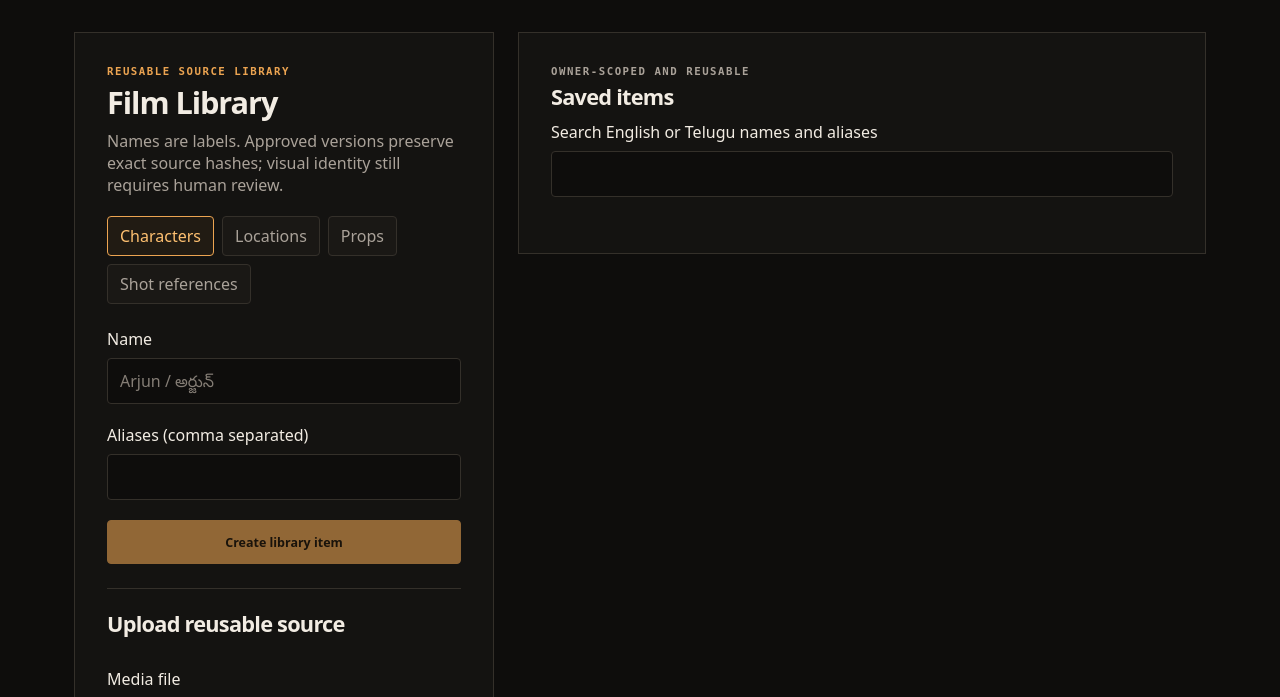
Test: FilmLibraryView › creates a Unicode-named reusable character with explicit aliases
This screenshot has width=1280, height=697.
Type "Arjun" into the field labelled "Name" at x=284, y=381, box [107,358,461,404]
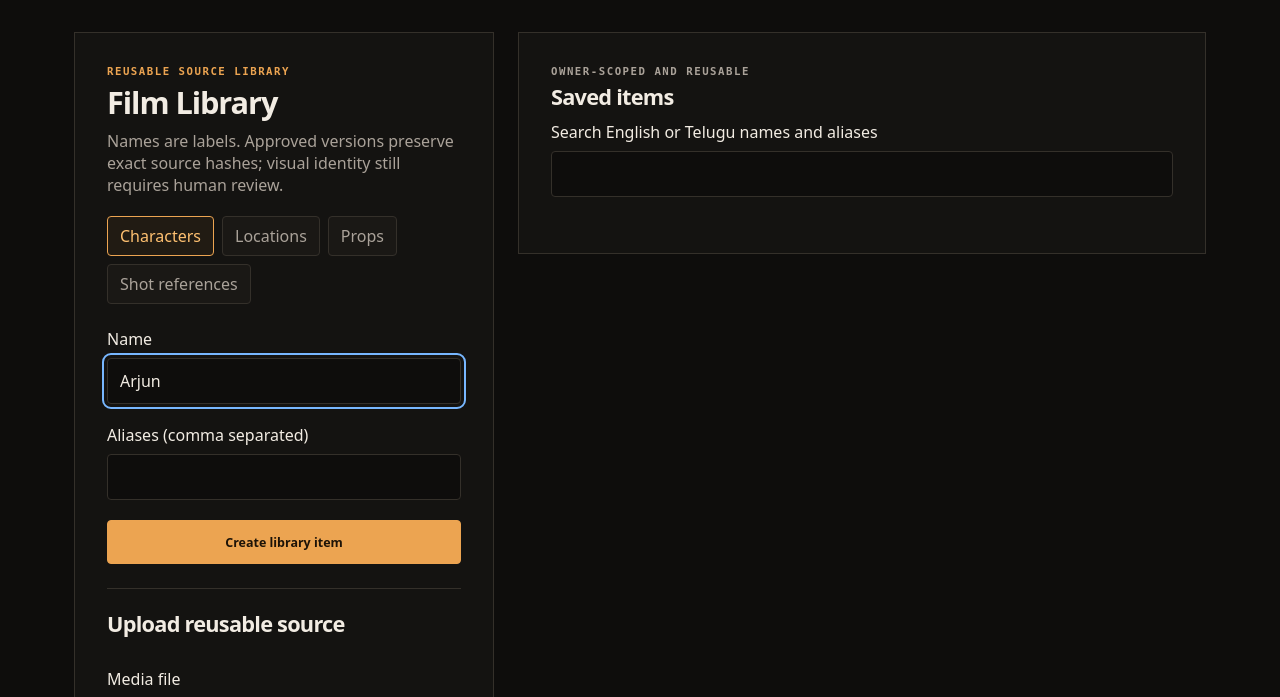
Type "అర్జున్, Arjun Rao" into the field labelled "Aliases (comma separated)" at x=284, y=477, box [107,454,461,500]
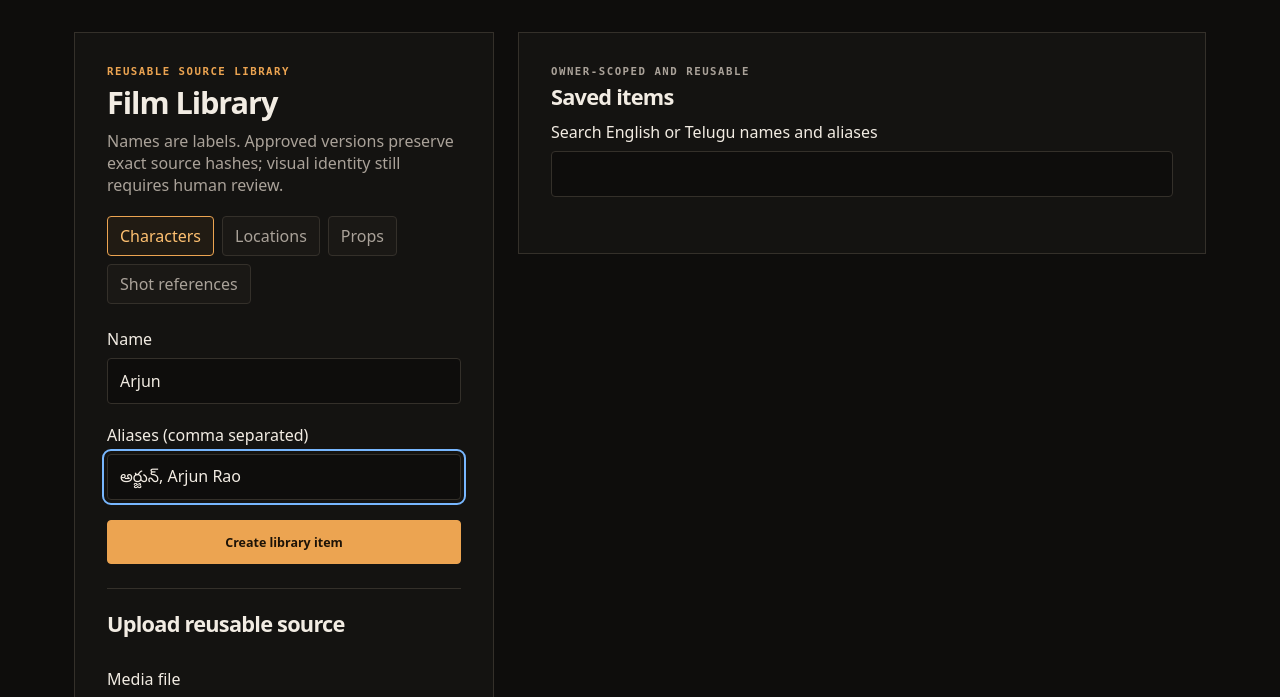
Click the button "Create library item" at x=284, y=542, box [107,520,461,564]
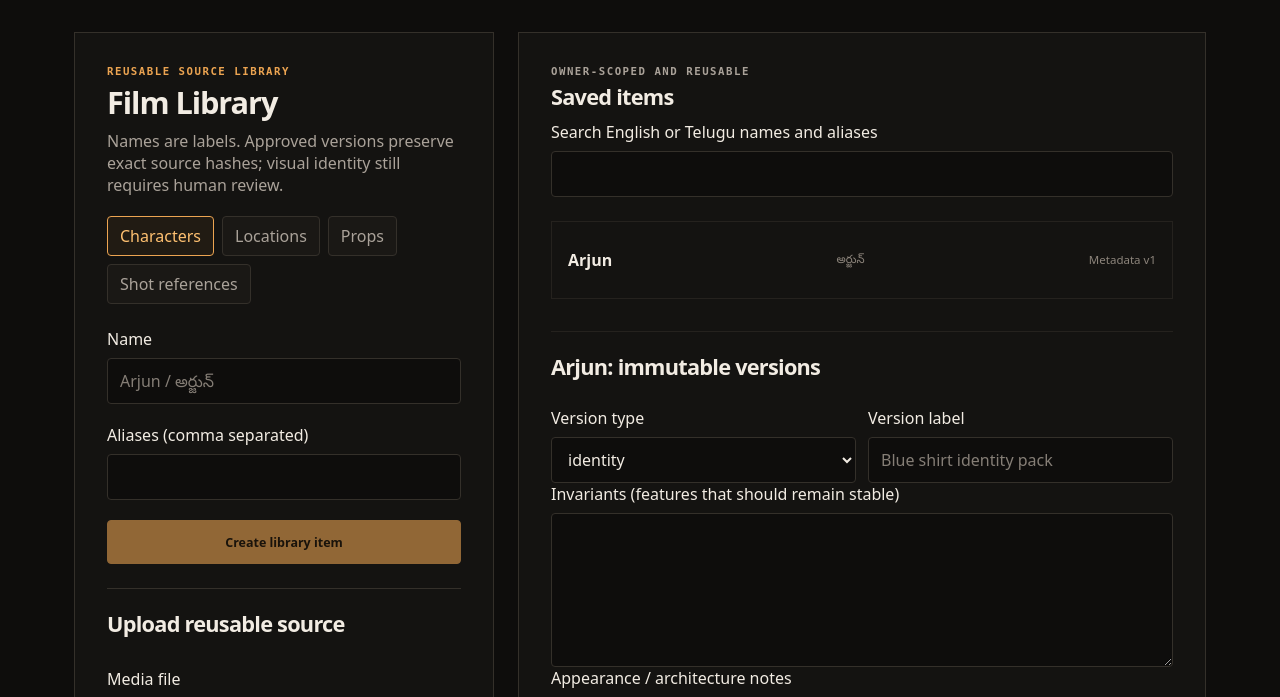
Result: the text "Arjun" is shown at [568,249,612,271]
